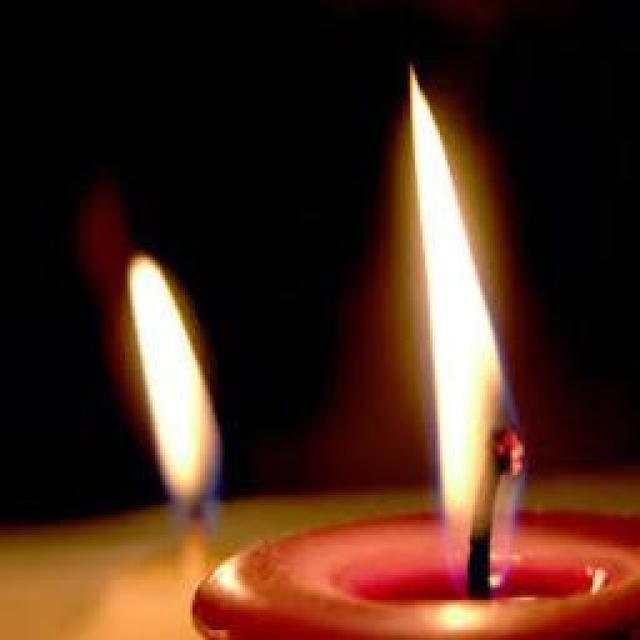fire: (408, 67, 524, 585), (126, 255, 222, 500)
